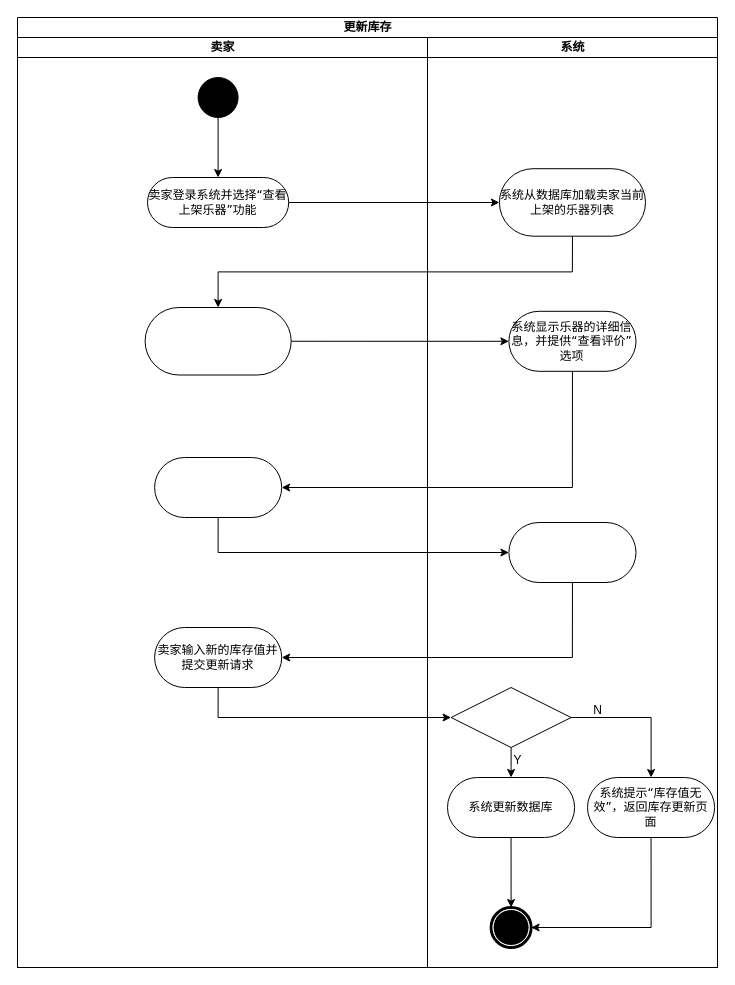
Some shapes in this 735 by 985 pixel diagram are drawn without their labels. The centre of each missing label's shape, as x and y in pixels:
"卖家点击某一乐器查看详细信息" belongs at point 217,340.
"卖家选择“更新库存”" belongs at point 218,487.
"系统显示当前库存数量，并允许卖家输入新的库存值" belongs at point 572,552.
"系统验证输入的库存值是否有效" belongs at point 510,717.
